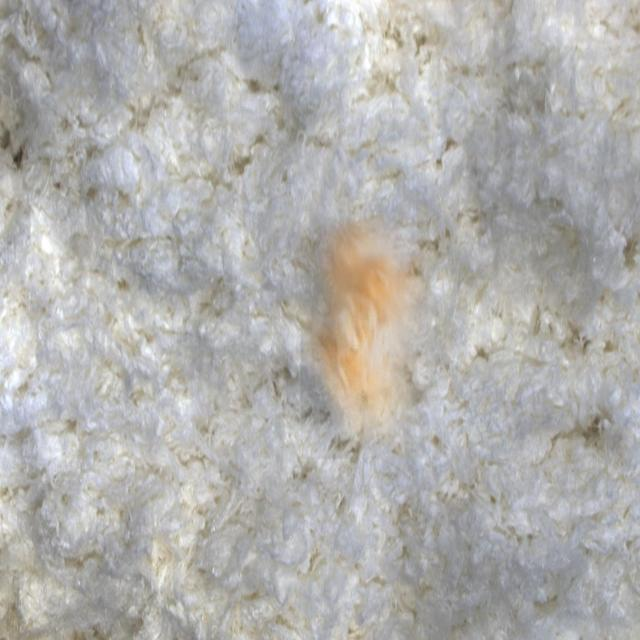dust: (300, 213, 435, 459)
